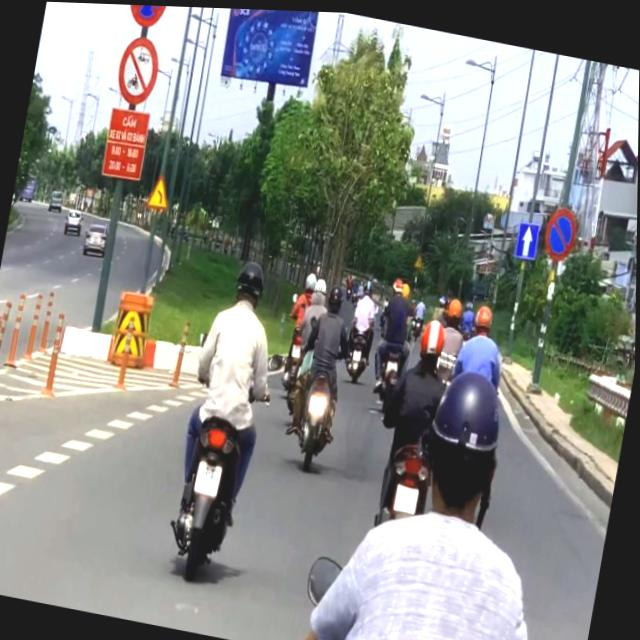Cam do xe: (541, 201, 581, 260)
Cam dung xe va do xe: (124, 4, 172, 30)
Duong mot chieu: (515, 217, 541, 257)
cho ngoat nguy hiem vong ben trai: (147, 172, 174, 211), (415, 250, 426, 265)
